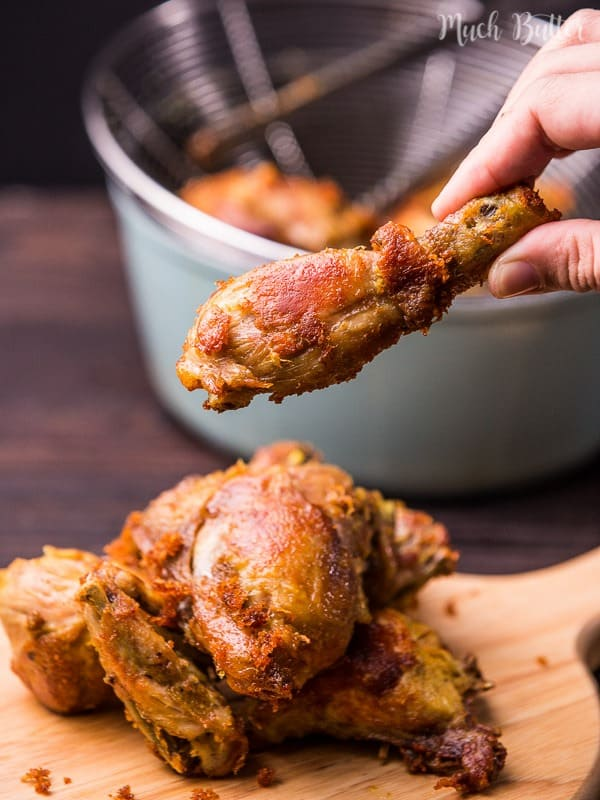Ayam: (130, 170, 568, 421), (142, 445, 379, 709)
